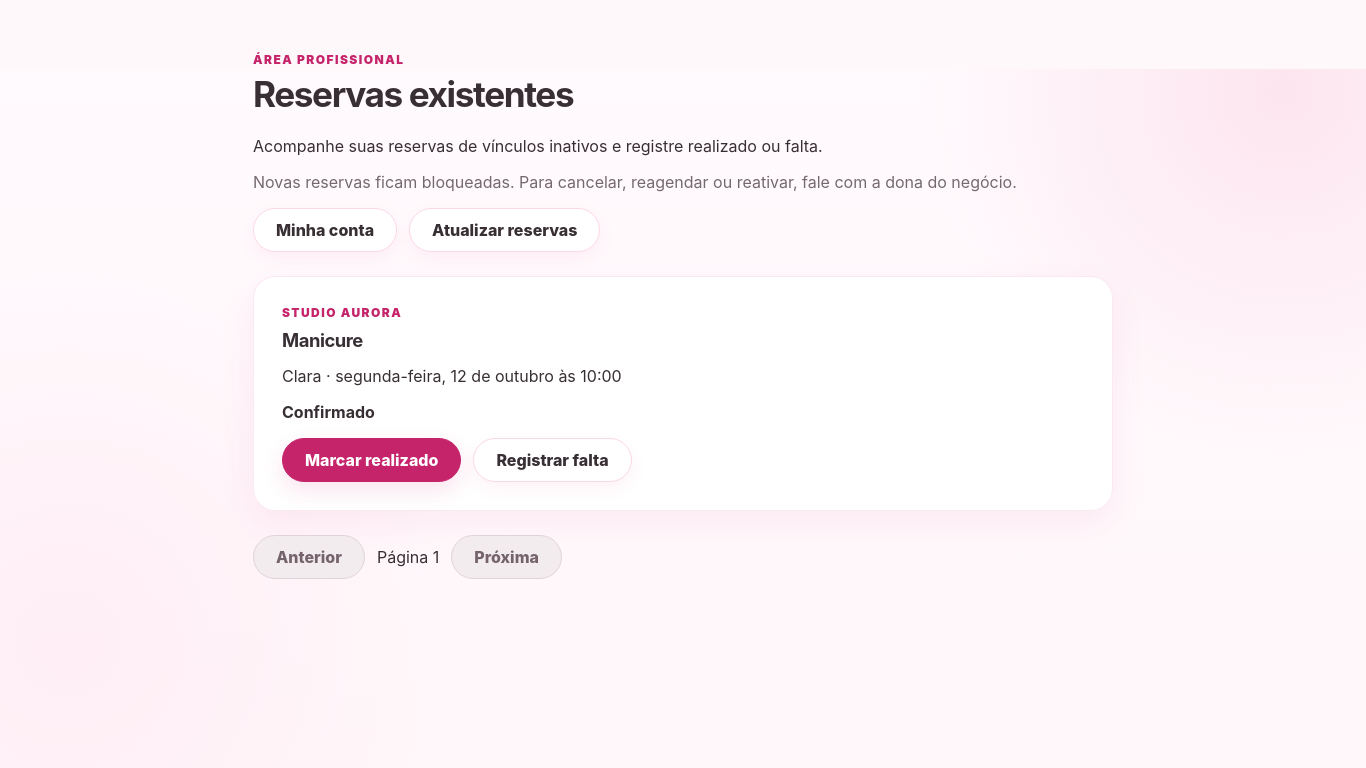
Test: RN50: reservas existentes › preserva a confirmação após falha e permite repetir
Step 1. Click the button "Marcar realizado" → (372, 460), box [282,438,461,482]
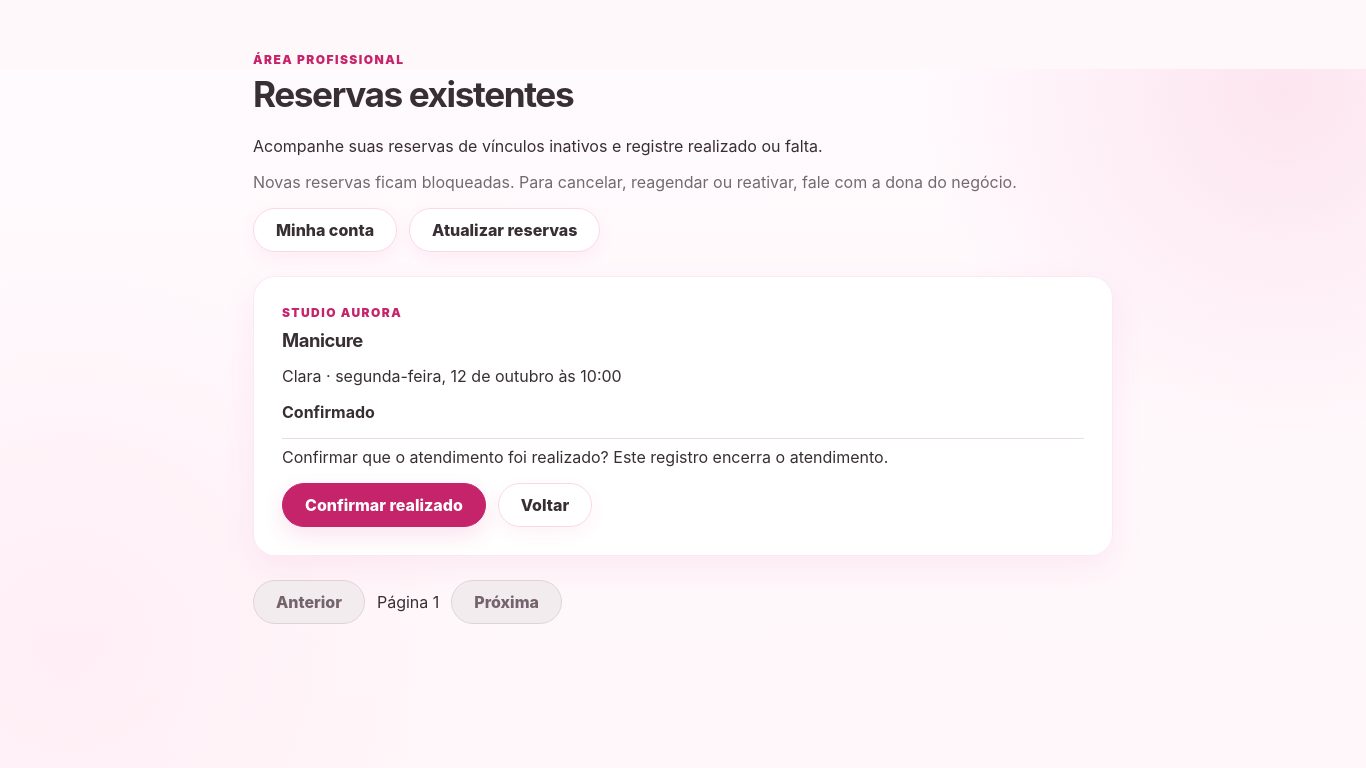
Step 2. Click the button "Confirmar realizado" → (384, 506), box [282,484,486,528]
(page scrolled)
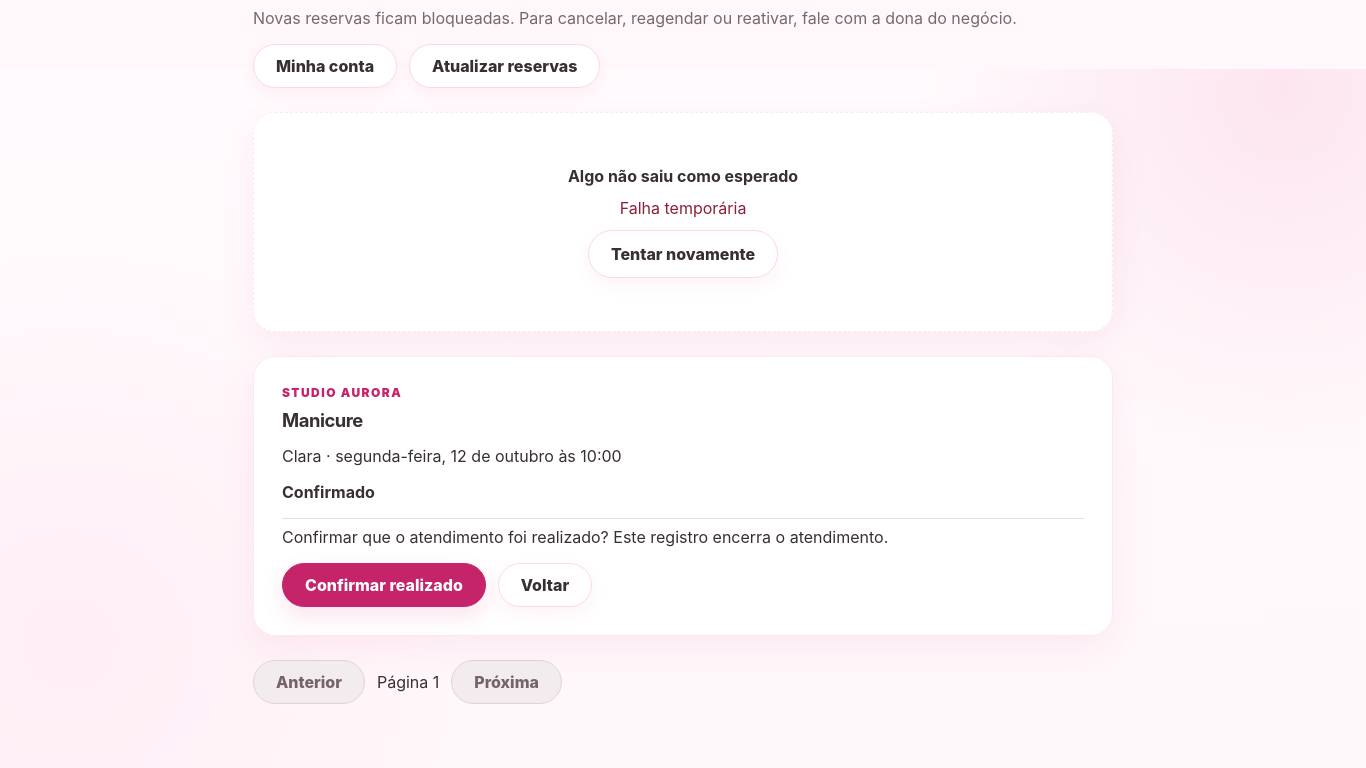
Expected: the text "Falha temporária" is shown, [620,198,746,218]
Step 3. Click the button "Confirmar realizado" → (384, 586), box [282,564,486,608]
(page scrolled)
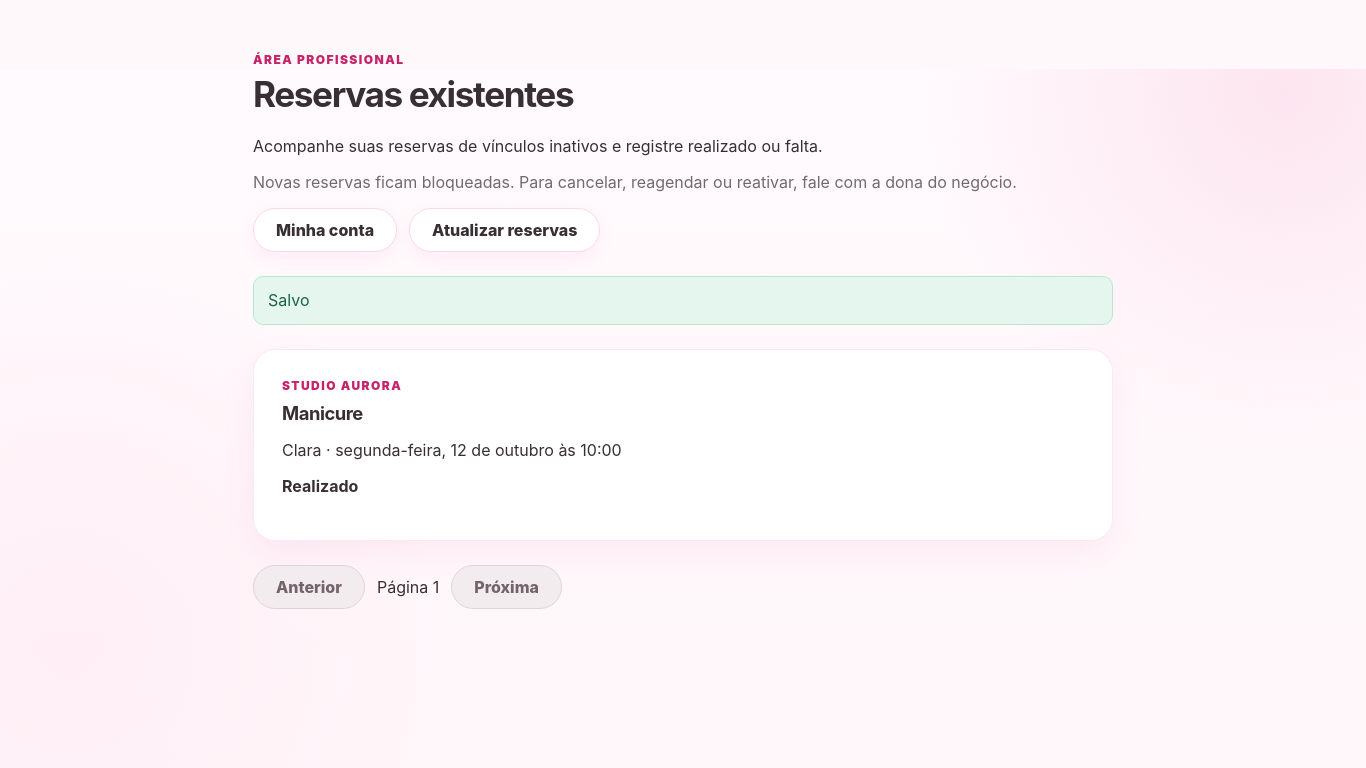
Expected: the text "Salvo" is shown, [253,276,1113,325]
